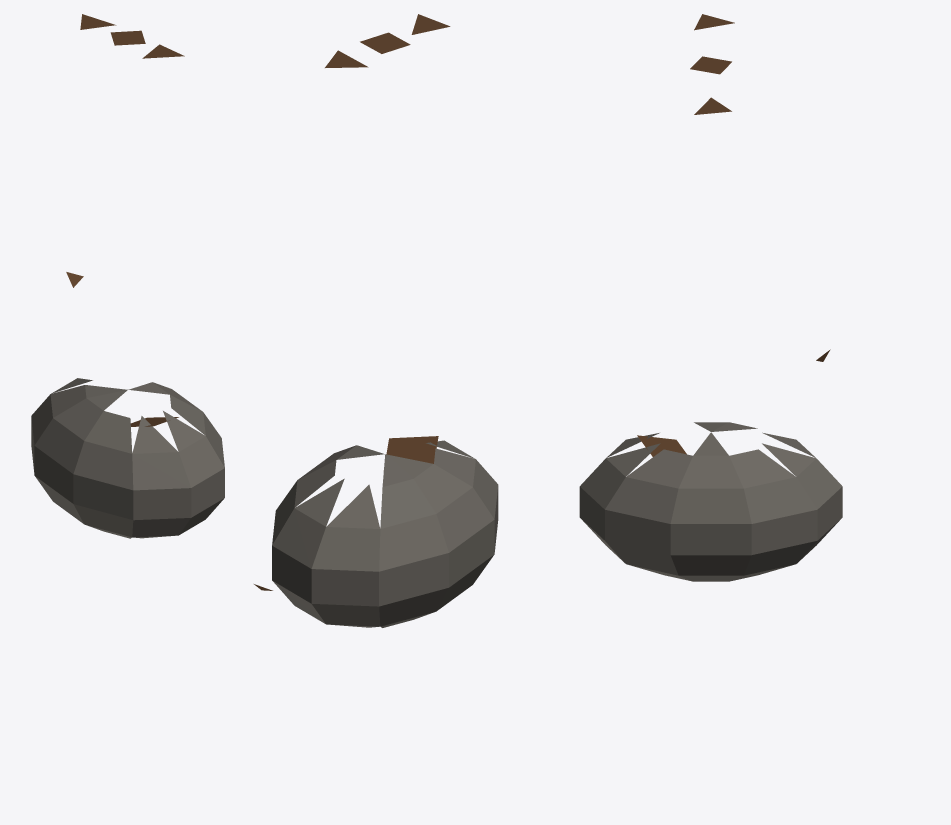
The model's file is bandfill.lod.glb.
The picture shows the model from 3 angles, left to right: view 1: azimuth 30°, elevation 25°; view 2: azimuth 150°, elevation 25°; view 3: azimuth 270°, elevation 25°; orthographic projection. The views are drawn at different scales.
Visible parts, largest first — view 1: m; view 2: m; view 3: m.
Part boxes in pixels (x1,y1,x2,y2): m: (31,14,224,538); m: (254,14,498,627); m: (579,14,842,581).
Size of the model in its own units: 0.1054 by 0.4999 by 0.2419.
